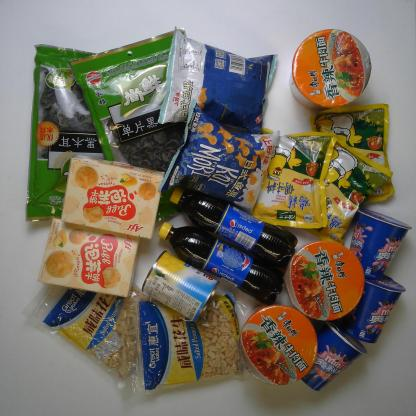Canned Food: (140, 250, 220, 324)
Dessert: (60, 154, 166, 241), (37, 217, 141, 297), (298, 319, 368, 392), (340, 270, 406, 344), (350, 207, 412, 282)
Dried Food: (68, 26, 214, 220), (25, 42, 142, 222)
Dried Fruit: (25, 268, 156, 390), (114, 288, 246, 401)
Drink: (170, 183, 299, 271), (156, 222, 284, 306)
Instant Noodles: (288, 28, 372, 111), (284, 240, 365, 321), (238, 304, 318, 386)
Puffed Food: (158, 99, 281, 215), (157, 26, 279, 136)
Seasoner: (296, 130, 394, 248), (250, 127, 339, 229), (309, 103, 395, 205)
